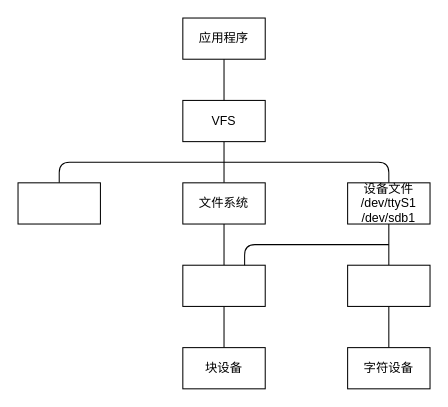
Image size: 448x407. Some labels were removed from this diagram. The shapes that lost their labels are listed below. From the top down, each one's centre as x and y in pixels, then its label:
At (58,203): "特殊文件 /proc /sys".
At (223,285): "块设备驱动".
At (388,285): "字符设备驱动".
